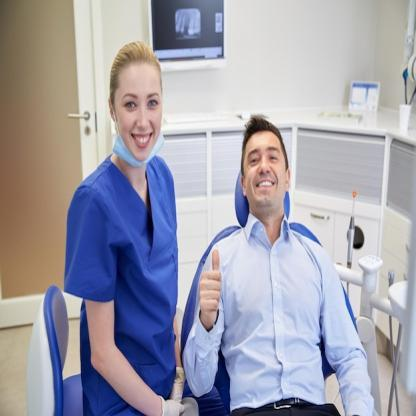thumb_up: (196, 244, 226, 322)
